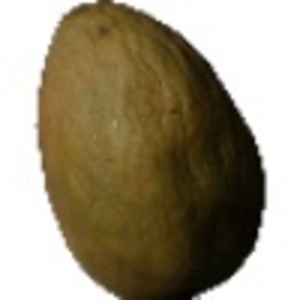mamão: (29, 6, 279, 295)
